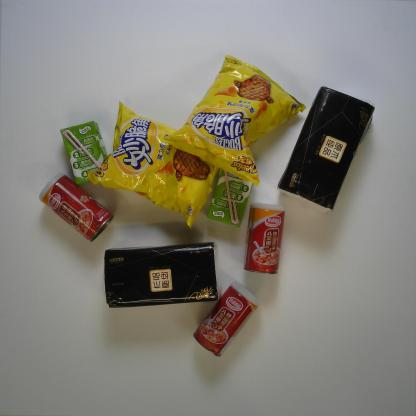Canned Food: (38, 171, 114, 243), (192, 281, 261, 358), (243, 201, 286, 275)
Milk: (60, 119, 108, 186), (206, 167, 254, 228)
Puffed Food: (159, 53, 307, 186), (85, 100, 220, 228)
Tissue: (274, 85, 376, 214), (102, 240, 222, 310)
